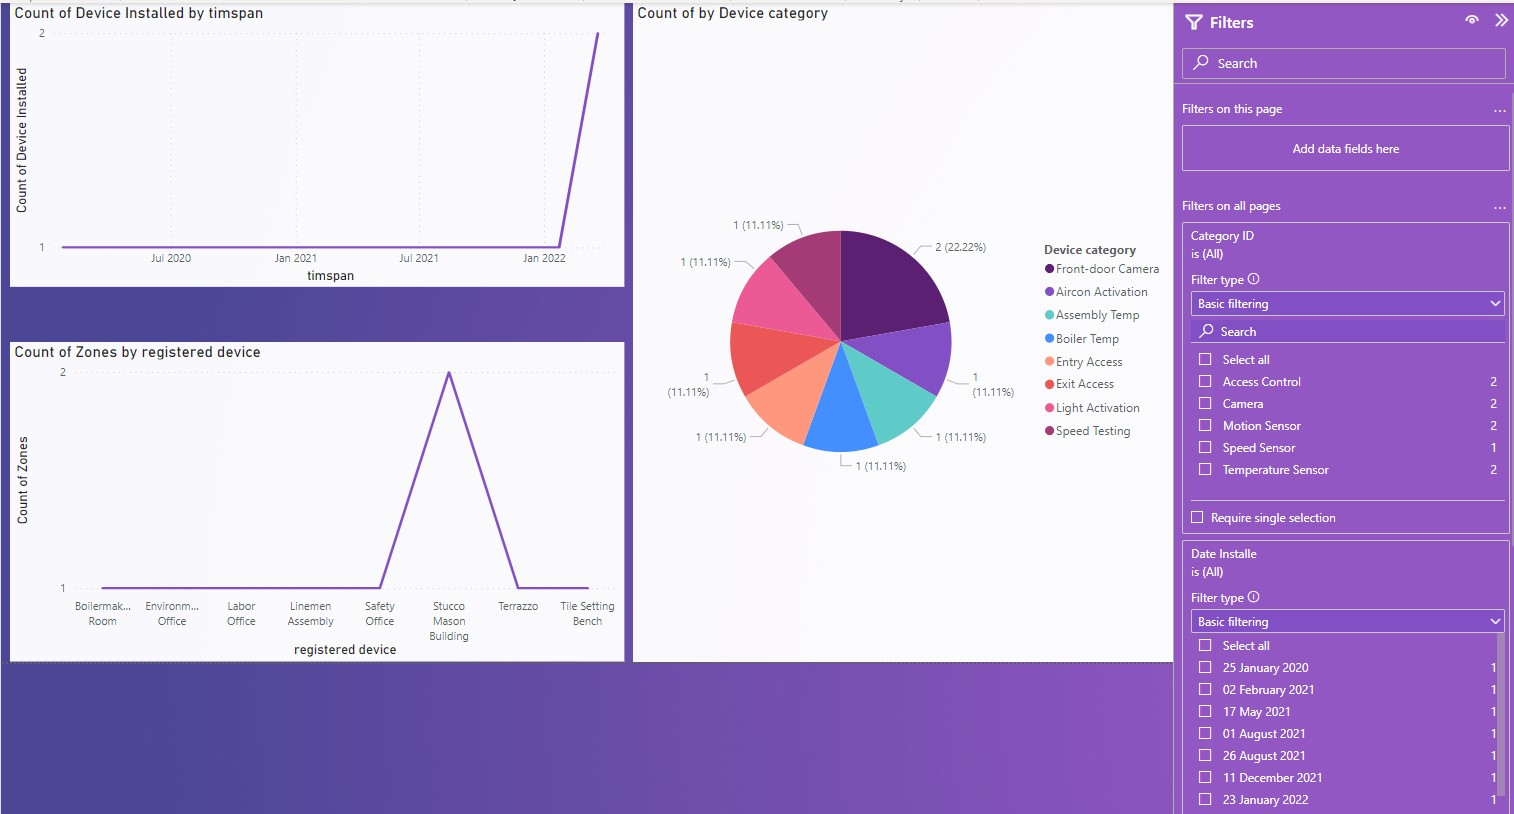

This screenshot's page, from the dashboard's own definition file:
{"tool":"powerbi","page":{"name":" Device Registration","canvas":[1280,720],"ordinal":2},"visuals":[{"type":"pieChart","fields":{"Y":["CountNonNull(Device.ID)"],"Category":["Device.Device Name"]},"box":[690.2,0,589.8,719.7],"z":0},{"type":"lineChart","fields":{"Y":["CountNonNull(Device.Date Installe)"],"Category":["Device.Date Installe.Variation.Date Hierarchy.Year"]},"box":[9.8,0,670.6,310.2],"z":1000},{"type":"lineChart","fields":{"Category":["Device.Zone ID","Device.Date Installe.Variation.Date Hierarchy.Year"],"Y":["CountNonNull(Device.Zone ID)"]},"box":[9.8,370.2,670.6,349.5],"z":2000}]}

Visuals, with their boxes on the page's 1280x720 design canvas (x1, y1, x2, y2). These are canvas units, not pixel positions in the 1514x814 screenshot, which may show the page scaled, cropped or inside an application window:
pieChart - CountNonNull(Device.ID) x Device.Device Name: BBox(690, 0, 1280, 720)
lineChart - CountNonNull(Device.Date Installe) x Device.Date Installe.Variation.Date Hierarchy.Year: BBox(10, 0, 680, 310)
lineChart - Device.Zone ID x Device.Date Installe.Variation.Date Hierarchy.Year: BBox(10, 370, 680, 720)
